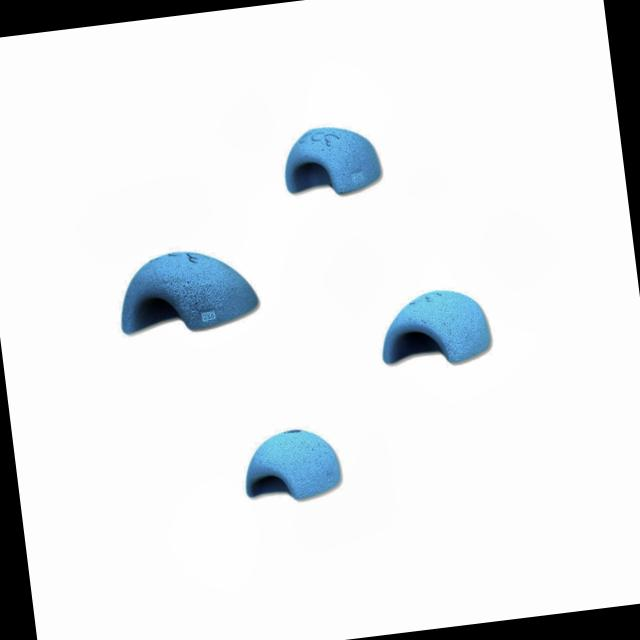Hold: (114, 238, 266, 340), (377, 281, 495, 371), (238, 421, 348, 508), (280, 119, 386, 203)
